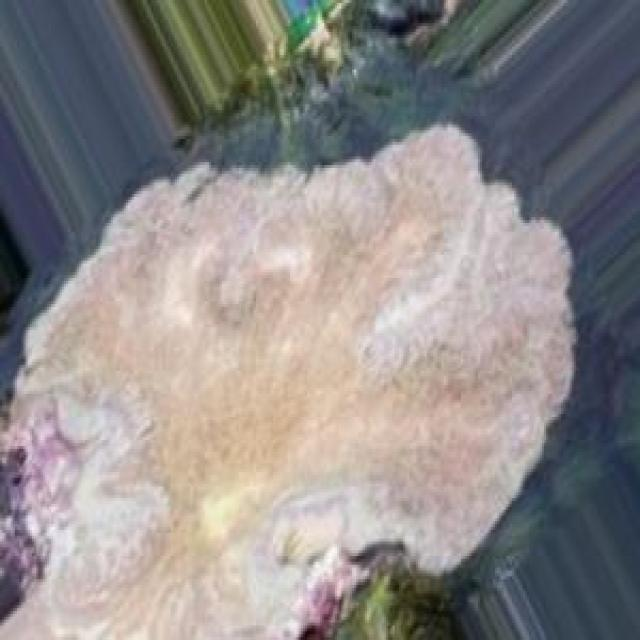Bleached: (1, 126, 575, 638)
